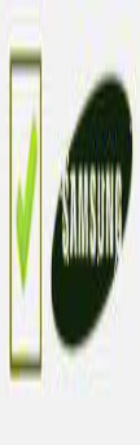CheckBox: (1, 1, 139, 444)
